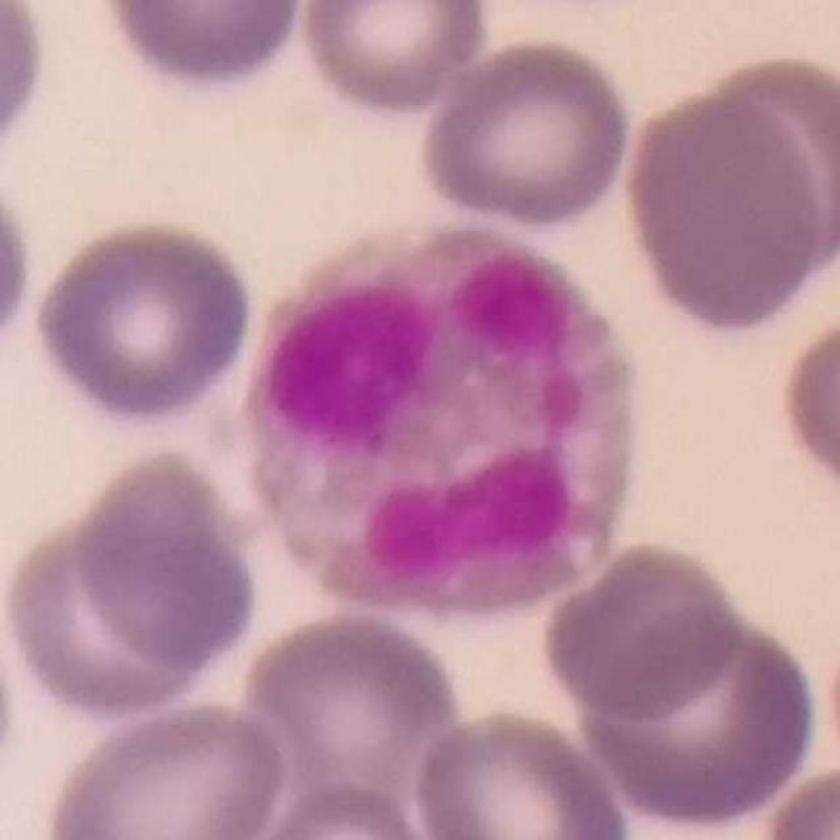eosinophil: (241, 214, 644, 623)
